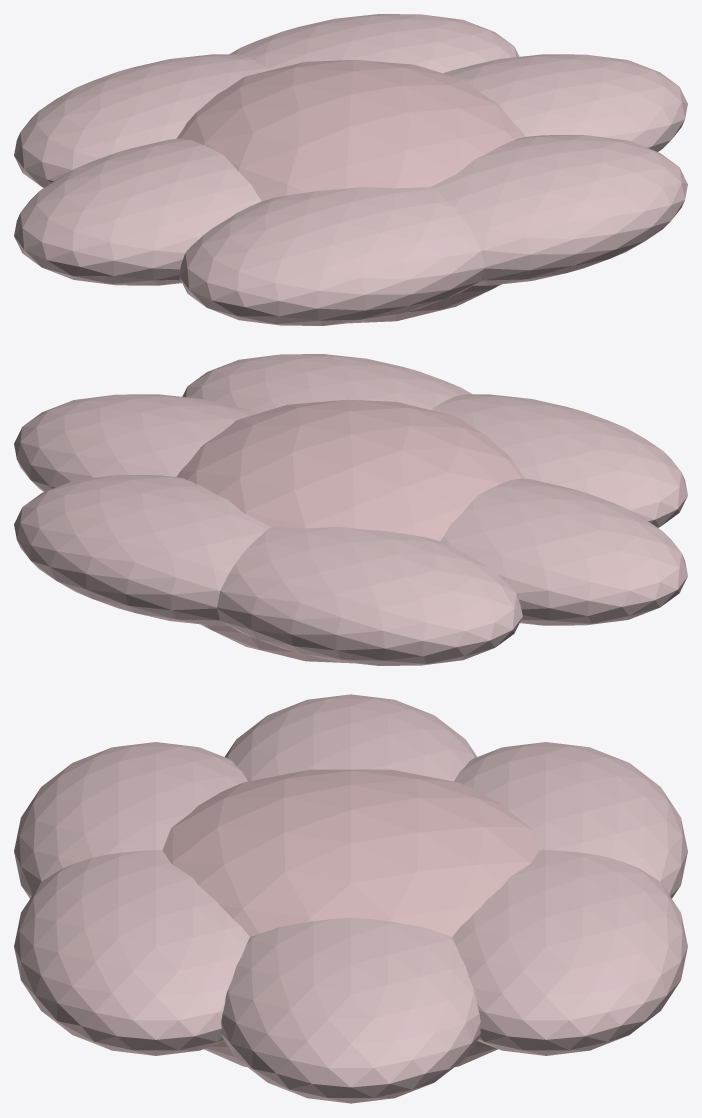
File: rose.glb
3 renders of one model, top to bottom at view 1: azimuth 30°, elevation 25°; view 2: azimuth 150°, elevation 25°; view 3: azimuth 270°, elevation 25°, orthographic. The views are drawn at different scales.
Parts seen in each view (by area): view 1: world; view 2: world; view 3: world.
Boxes of the visible parts, box(x1,y1,x2,y2) form: world: box(14, 14, 687, 325); world: box(14, 354, 687, 665); world: box(14, 694, 687, 1103).
Size of the model in its own units: 1.58 by 0.45 by 1.2.
